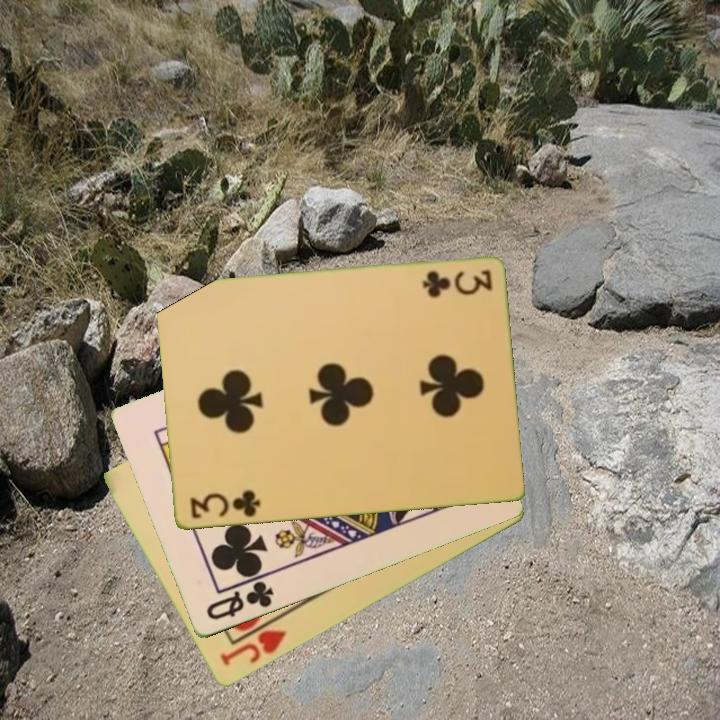3c: (186, 487, 263, 522), (418, 266, 495, 299)
Jh: (216, 613, 289, 670)
Qc: (202, 577, 277, 624)
